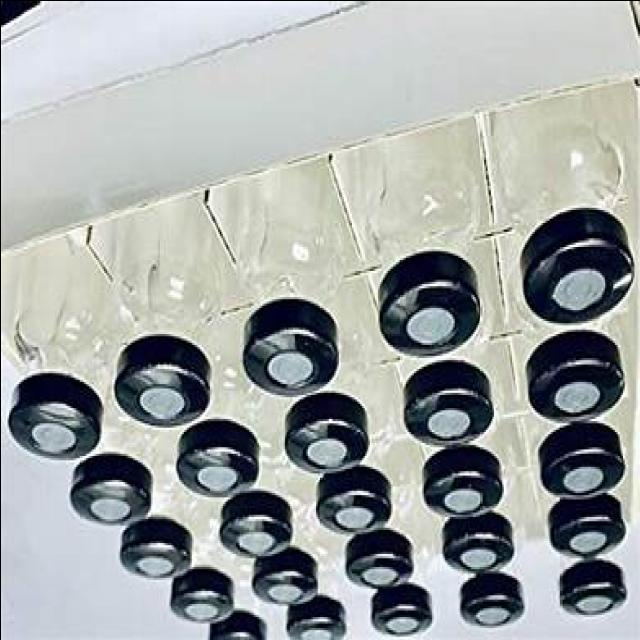vial: (381, 270, 473, 347), (173, 419, 261, 491), (242, 322, 335, 386), (119, 362, 207, 428), (0, 401, 98, 458), (523, 358, 615, 418), (536, 434, 622, 489), (412, 382, 484, 444), (288, 410, 368, 458), (550, 501, 622, 550), (421, 471, 497, 516), (436, 530, 512, 572), (340, 541, 414, 583), (122, 521, 184, 571), (460, 584, 526, 626), (324, 484, 390, 526), (250, 563, 318, 601), (224, 512, 292, 550), (76, 484, 148, 516), (370, 602, 430, 634), (568, 582, 624, 614), (177, 583, 224, 620), (282, 615, 342, 640), (213, 625, 263, 640)
